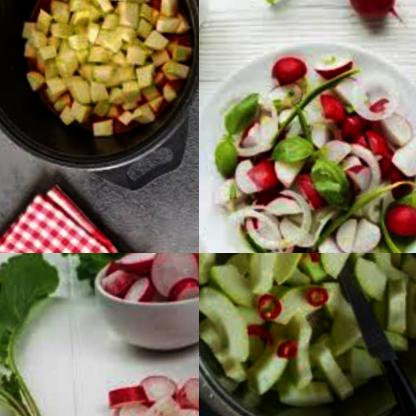hot pepper: (255, 293, 283, 325), (301, 285, 332, 312), (272, 337, 300, 366), (245, 323, 276, 347), (290, 253, 326, 266)
rediska: (91, 365, 199, 416), (101, 253, 199, 306), (231, 155, 282, 204), (329, 213, 380, 253), (287, 171, 328, 212), (328, 0, 399, 23), (379, 202, 416, 243), (373, 105, 408, 147), (306, 53, 350, 85), (264, 51, 304, 86), (385, 136, 416, 181), (343, 158, 375, 196), (231, 117, 262, 152), (308, 234, 354, 253)
vegetable marrow: (206, 253, 416, 390), (15, 0, 194, 140)
